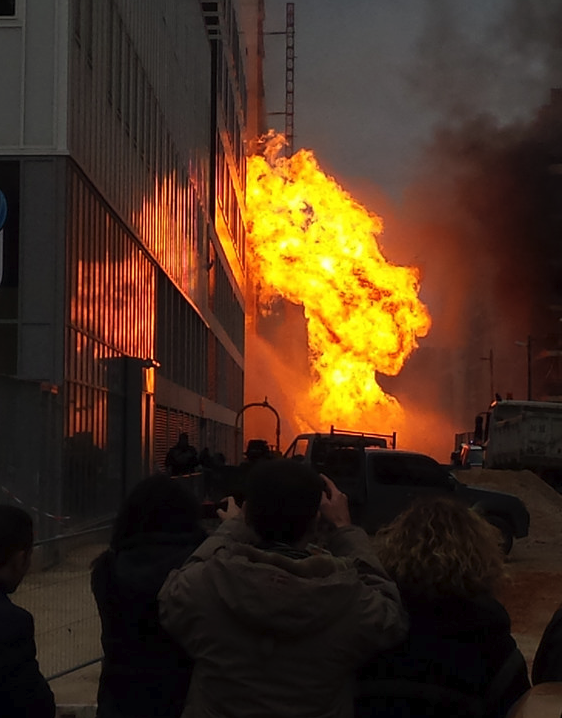fire: (224, 149, 425, 420)
